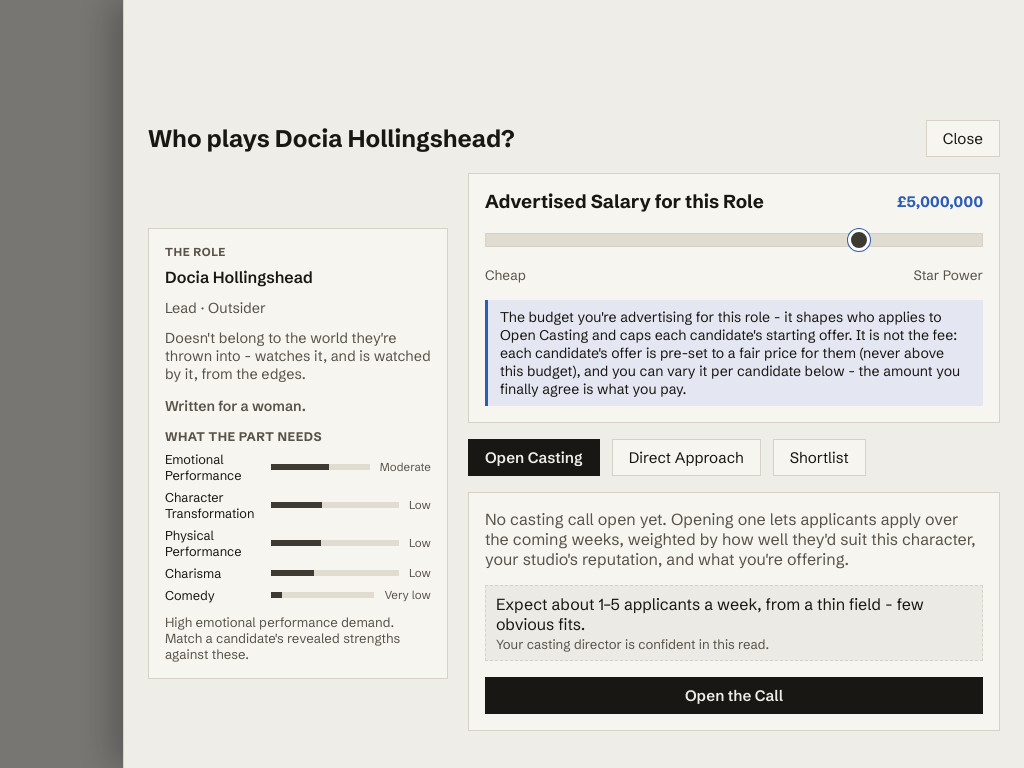
Test case: CastingDrawer - Direct Approach fame gate › surfaces lesser-known names once a casting director is hired
What coordinates should you click on to do the following:
click the button "Direct Approach"
I would click on:
 (686, 458)
Its box is [612,439,761,476].
(page scrolled)
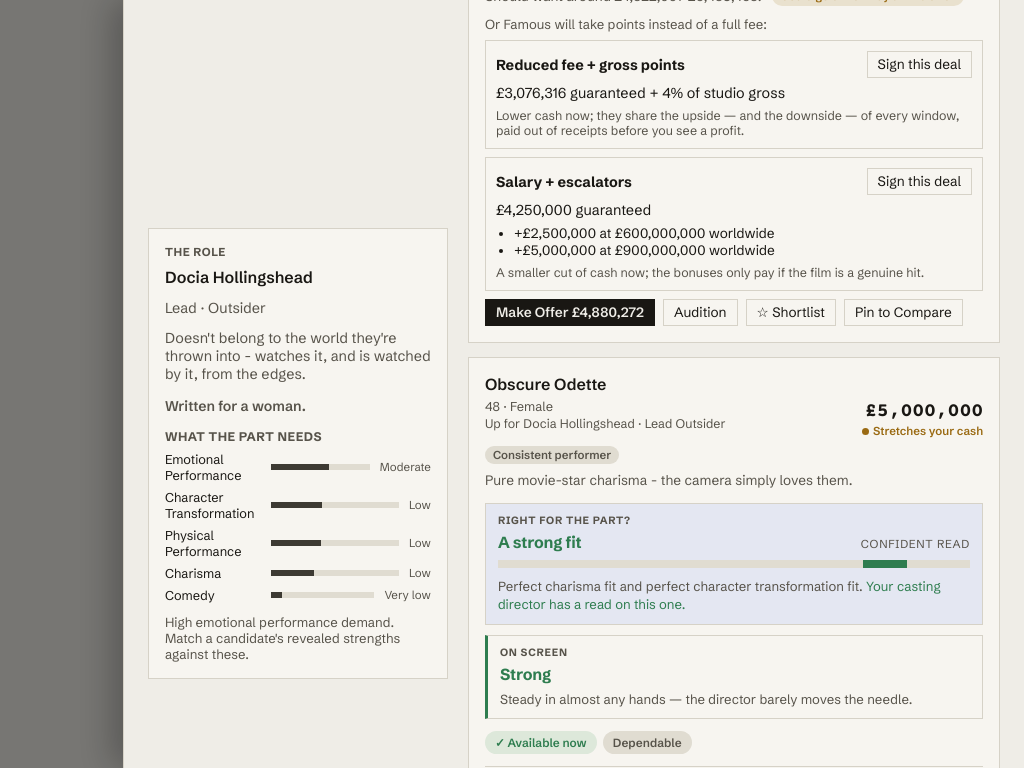
Expected: the text "Obscure Odette" is shown, [485,374,606,394]
